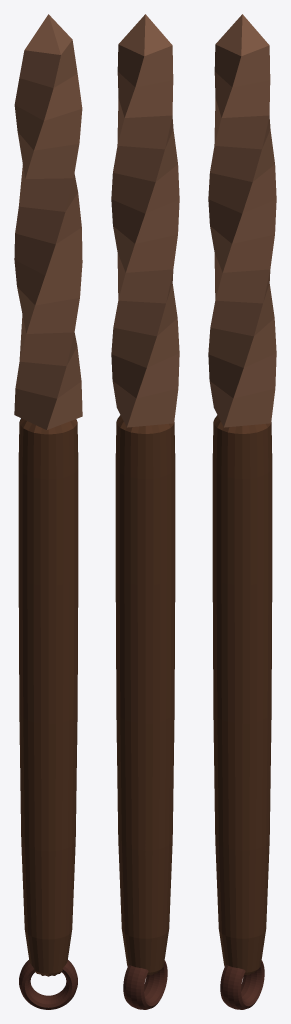
File: Wand 51.glb
3 renders of one model, left to right at view 1: azimuth 90°, elevation 25°; view 2: azimuth 150°, elevation 25°; view 3: azimuth 330°, elevation 25°, orthographic.
Visible parts, largest first — view 1: GeneratedWand; view 2: GeneratedWand; view 3: GeneratedWand.
Boxes of the visible parts, <box> form: GeneratedWand: <box>14,14,82,1009</box>; GeneratedWand: <box>111,14,179,1009</box>; GeneratedWand: <box>208,14,276,1009</box>.
Bounding box in the file's own units: 0.0311 × 0.5002 × 0.0311.
